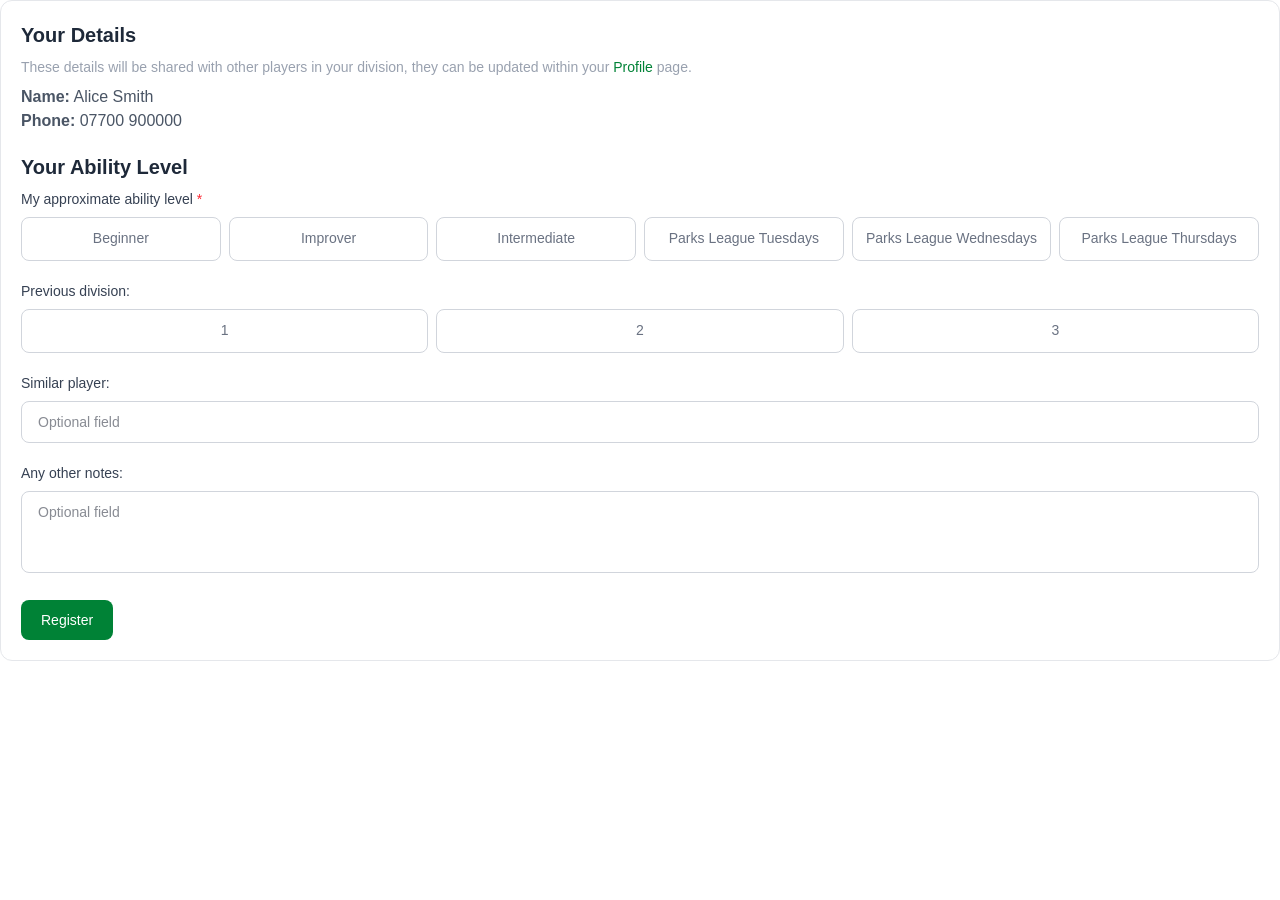
Scenario: RegistrationForm › requires an ability level before submitting
Click the button "Register": (67, 620) [21,600,113,640]
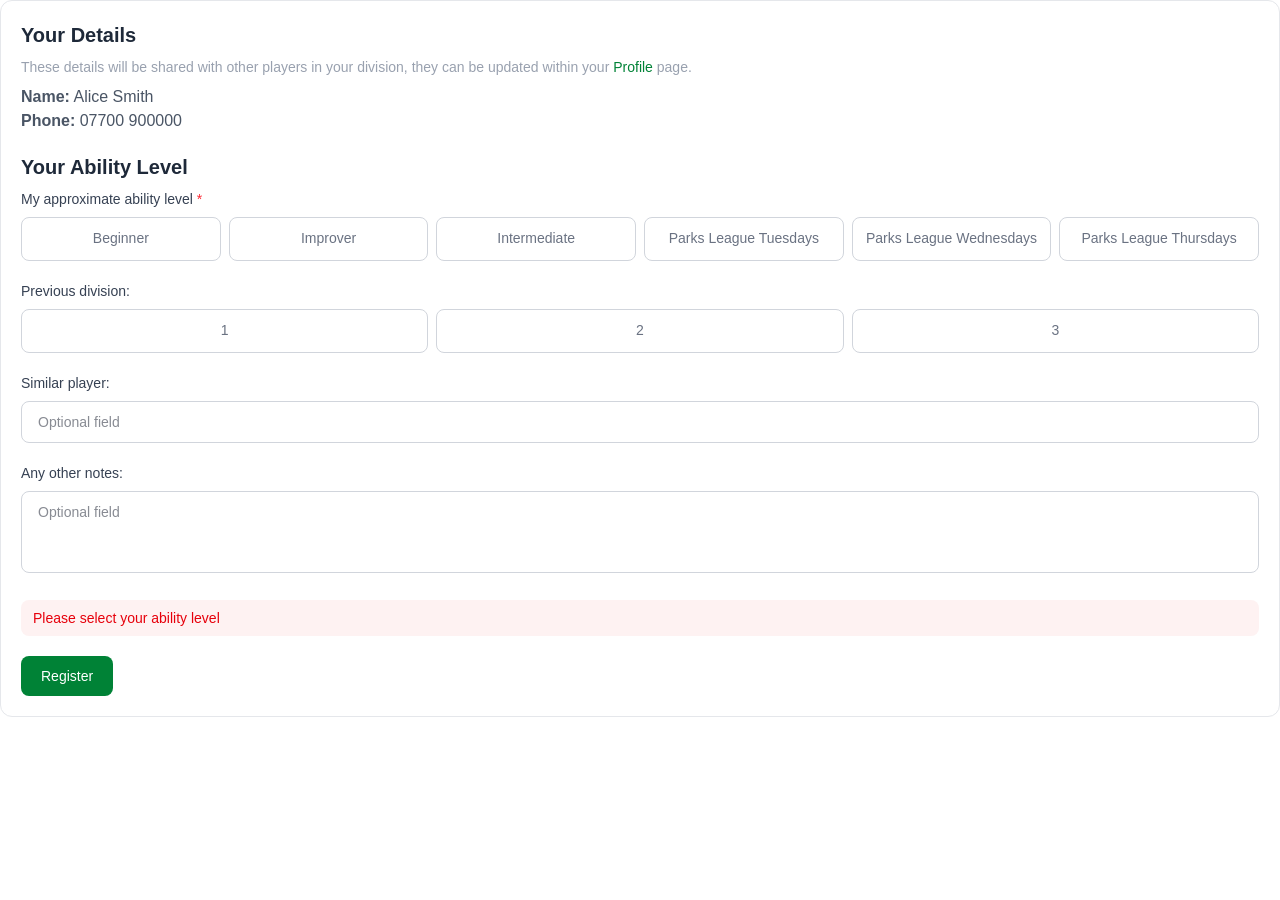
Expected: the text "Please select your ability level" is shown, [21,600,1259,636]
